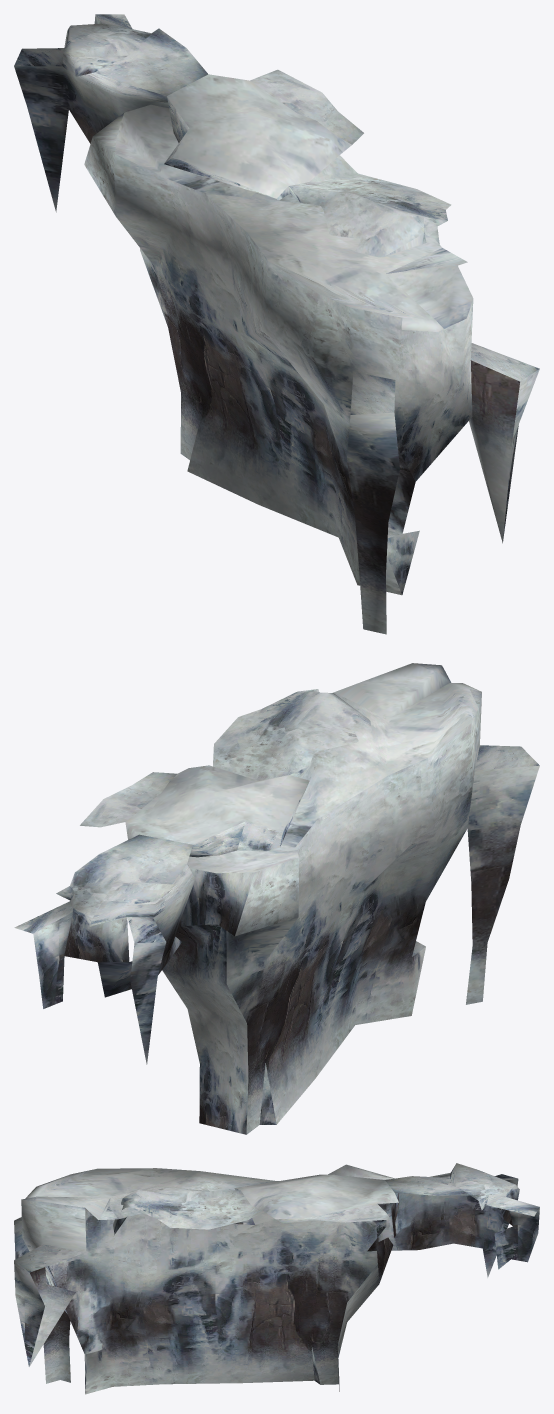
The model's file is S_Rock_White017_1.FBX.
3 renders of one model, top to bottom at view 1: azimuth 30°, elevation 25°; view 2: azimuth 150°, elevation 25°; view 3: azimuth 270°, elevation 25°, orthographic. The views are drawn at different scales.
Parts seen in each view (by area): view 1: S_Rock_White017_1; view 2: S_Rock_White017_1; view 3: S_Rock_White017_1.
Part boxes in pixels (x1=…): S_Rock_White017_1: x1=14, y1=14, x2=539, y2=634; S_Rock_White017_1: x1=14, y1=663, x2=539, y2=1134; S_Rock_White017_1: x1=14, y1=1163, x2=539, y2=1394.
Size of the model in its own units: 264 by 861 by 403.
